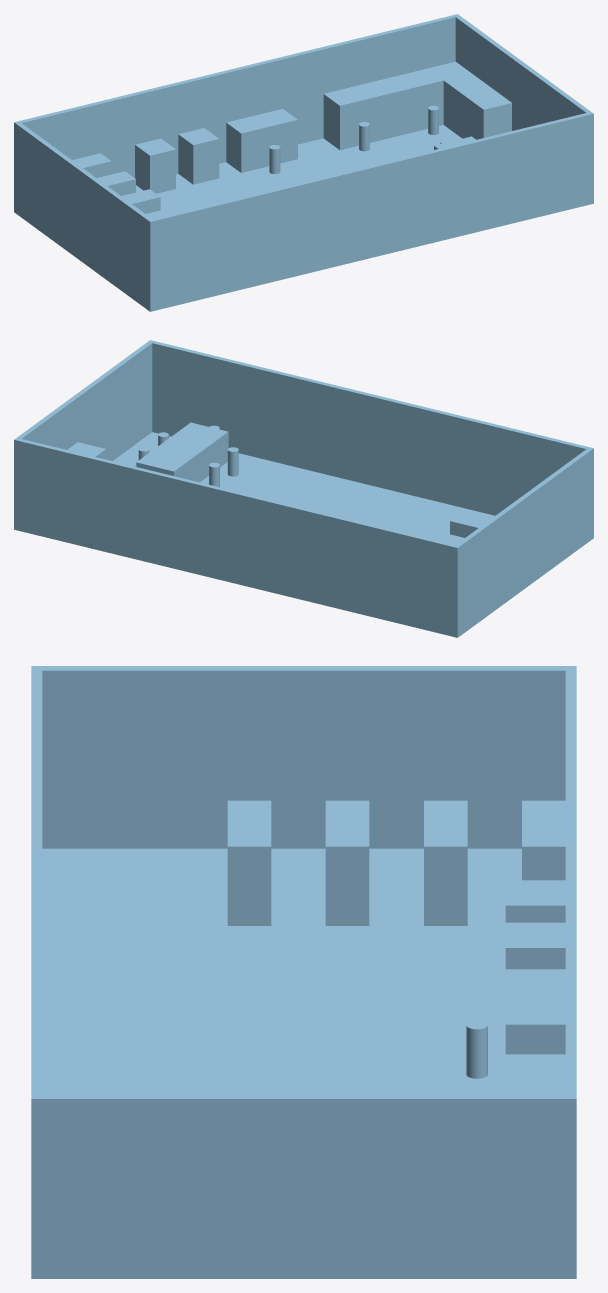
The model's file is lab_simple.dae.
3 renders of one model, top to bottom at view 1: azimuth 30°, elevation 25°; view 2: azimuth 150°, elevation 25°; view 3: azimuth 270°, elevation 25°, orthographic. The views are drawn at different scales.
Visible parts, largest first — view 1: ID2; view 2: ID2; view 3: ID2.
Boxes of the visible parts, x1=… form: ID2: x1=14, y1=14, x2=593, y2=311; ID2: x1=14, y1=340, x2=593, y2=637; ID2: x1=31, y1=666, x2=576, y2=1278.
Bounding box in the file's own units: 14.33 × 7.62 × 2.77.
